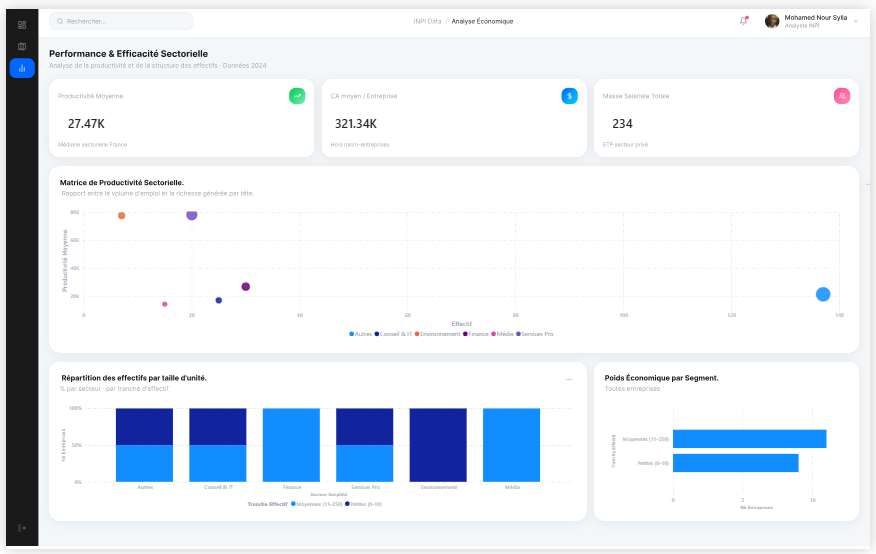

This screenshot's page, from the dashboard's own definition file:
{"tool":"powerbi","page":{"name":"Santé Financière & Segmentation","canvas":[1920,1200],"ordinal":2},"visuals":[{"type":"cardVisual","fields":{"Data":["_Mesures.CA Moyen par Entreprise"]},"box":[711.1,218.9,142.2,64.4],"z":0},{"type":"cardVisual","fields":{"Data":["_Mesures.Emplois salariés"]},"box":[1326.7,218.3,90,65],"z":1000},{"type":"cardVisual","fields":{"Data":["_Mesures.Productivité Moyenne"]},"box":[116.7,218.3,141.7,65],"z":2000},{"type":"scatterChart","fields":{"X":["Sum(fact_finance.effectif)"],"Y":["_Mesures.Productivité Moyenne"],"Series":["dim_secteur.Secteur Simplifié"],"Size":["_Mesures.CA Total"]},"box":[116,436,1750,304],"z":2001},{"type":"hundredPercentStackedColumnChart","fields":{"Category":["dim_secteur.Secteur Simplifié"],"Y":["_Mesures.Nb Entreprises"],"Series":["fact_finance.Tranche Effectif"]},"box":[116,872,1144,244],"z":2002},{"type":"clusteredBarChart","fields":{"Category":["fact_finance.Tranche Effectif"],"Y":["_Mesures.Nb Entreprises"]},"box":[1340,872,526,244],"z":2003},{"type":"actionButton","box":[12.3,20,46.2,40],"z":2004},{"type":"actionButton","box":[13.1,67.7,45.4,40],"z":2005},{"type":"actionButton","box":[13.1,20,46.2,40],"z":2006}]}

Visuals, with their boxes on the page's 1920x1200 design canvas (x1, y1, x2, y2). These are canvas units, not pixel positions in the 876x554 screenshot, which may show the page scaled, cropped or inside an application window:
cardVisual - _Mesures.CA Moyen par Entreprise: [x1=711, y1=219, x2=853, y2=283]
cardVisual - _Mesures.Emplois salariés: [x1=1327, y1=218, x2=1417, y2=283]
cardVisual - _Mesures.Productivité Moyenne: [x1=117, y1=218, x2=258, y2=283]
scatterChart - Sum(fact_finance.effectif) x _Mesures.Productivité Moyenne: [x1=116, y1=436, x2=1866, y2=740]
hundredPercentStackedColumnChart - dim_secteur.Secteur Simplifié x _Mesures.Nb Entreprises: [x1=116, y1=872, x2=1260, y2=1116]
clusteredBarChart - fact_finance.Tranche Effectif x _Mesures.Nb Entreprises: [x1=1340, y1=872, x2=1866, y2=1116]
actionButton: [x1=12, y1=20, x2=58, y2=60]
actionButton: [x1=13, y1=68, x2=58, y2=108]
actionButton: [x1=13, y1=20, x2=59, y2=60]
